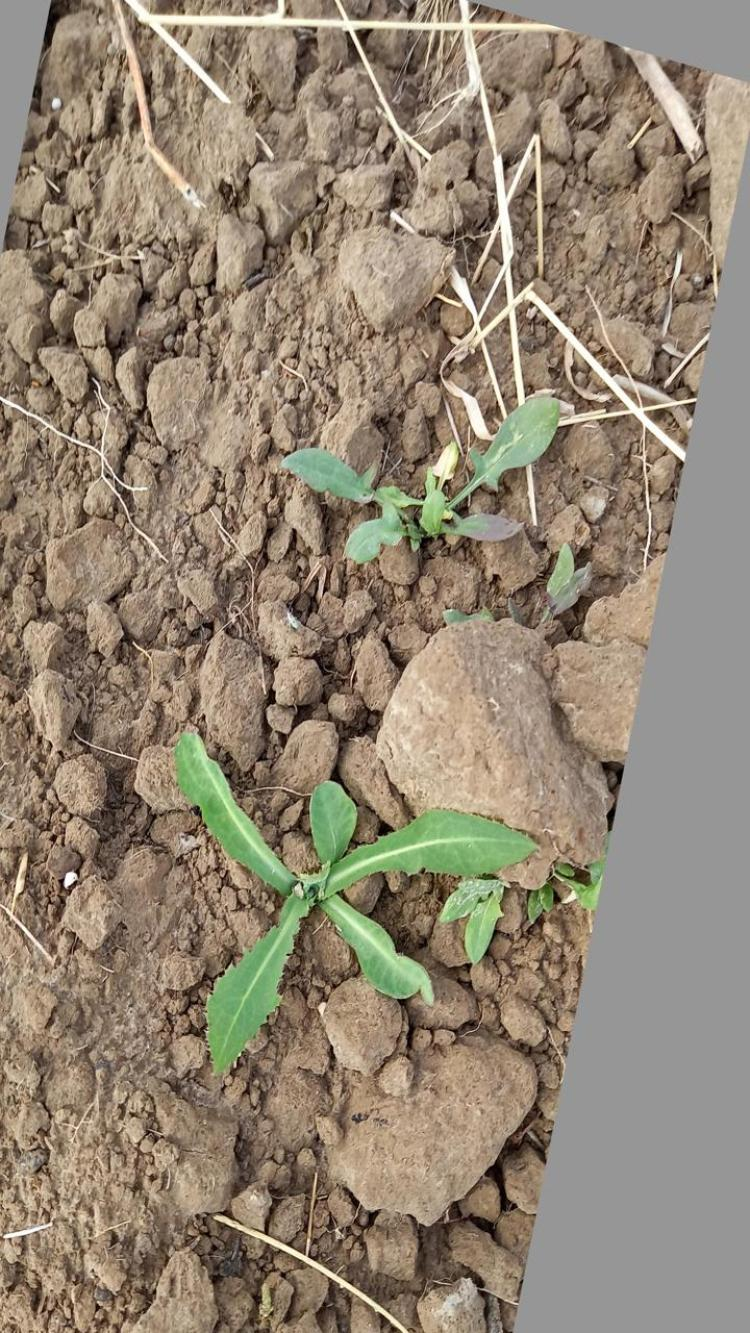osot: (175, 723, 546, 1083)
